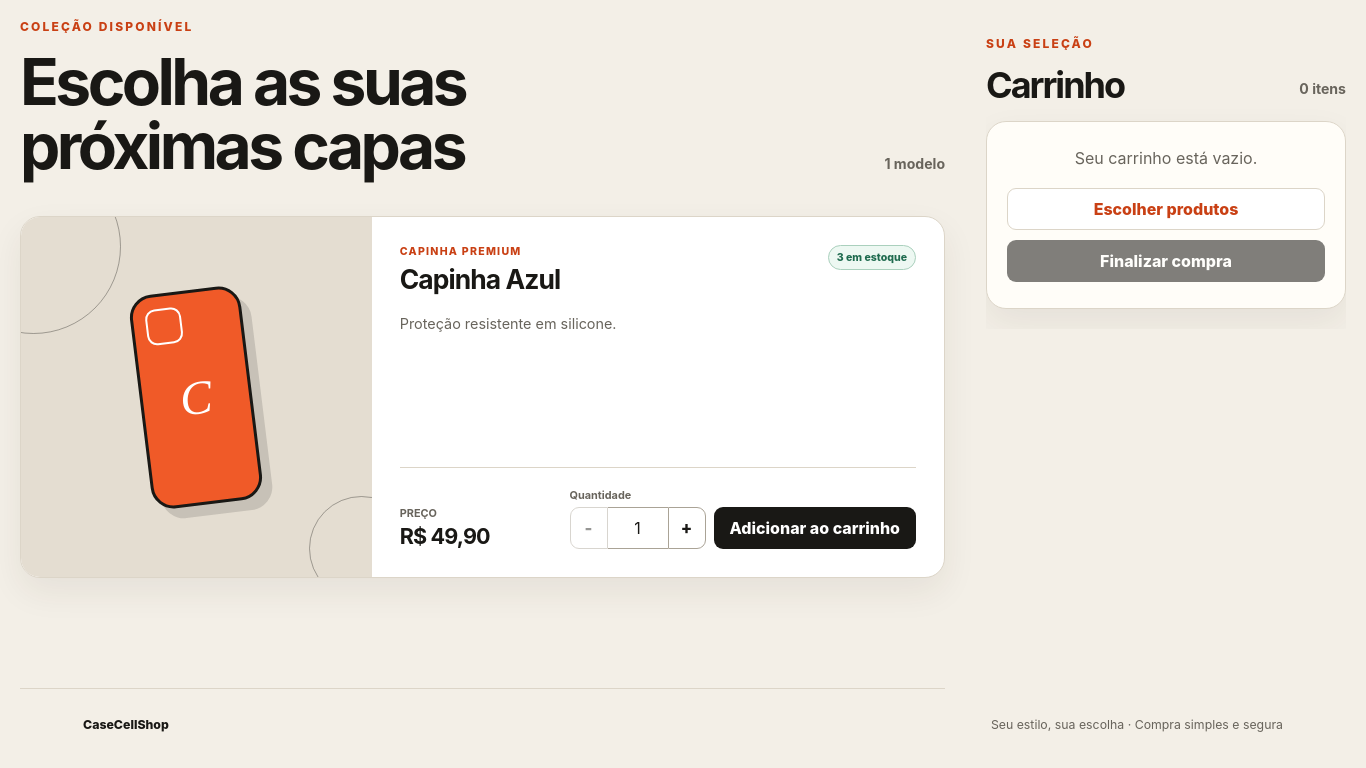
Test case: vitrine CaseCellShop › bloqueia quantidade inválida antes de adicionar ao carrinho
(page scrolled)
Replace the text in the field labelled "Quantidade" with "0" at (638, 528), box [608,507,668,549]
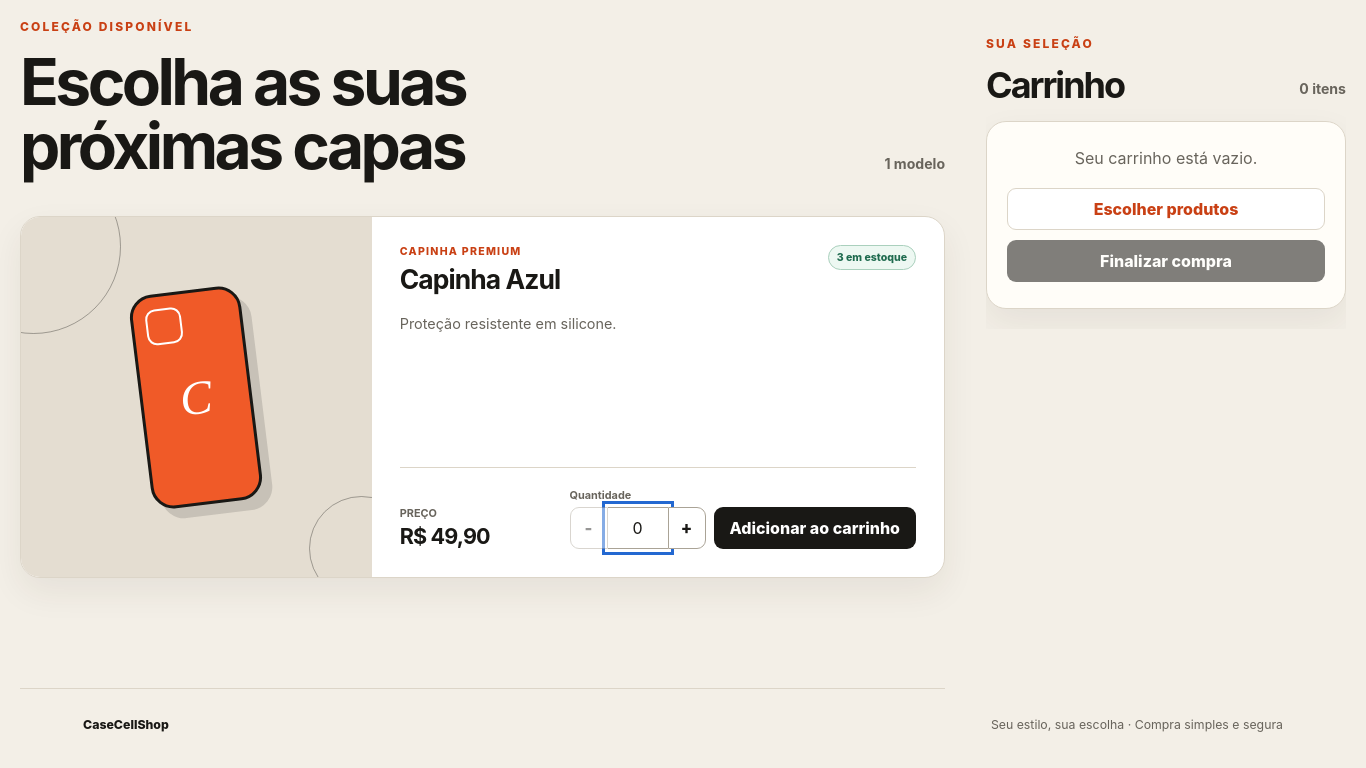
Click the button "Adicionar ao carrinho" at (815, 528), box [714,507,916,549]
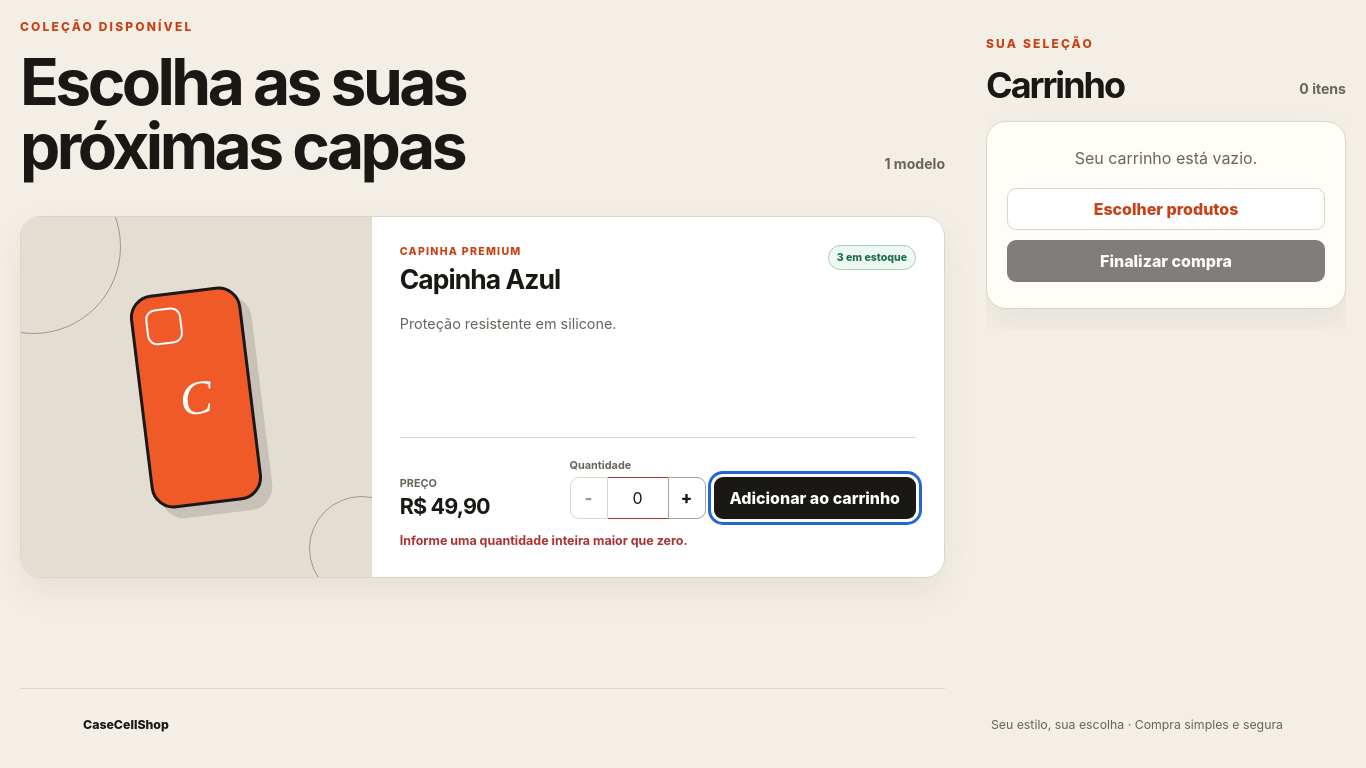
Expected: the text "Seu carrinho está vazio." is shown, [1075,148,1257,168]
Expected: the message reads "Informe uma quantidade inteira maior que zero.", [400,533,688,548]
